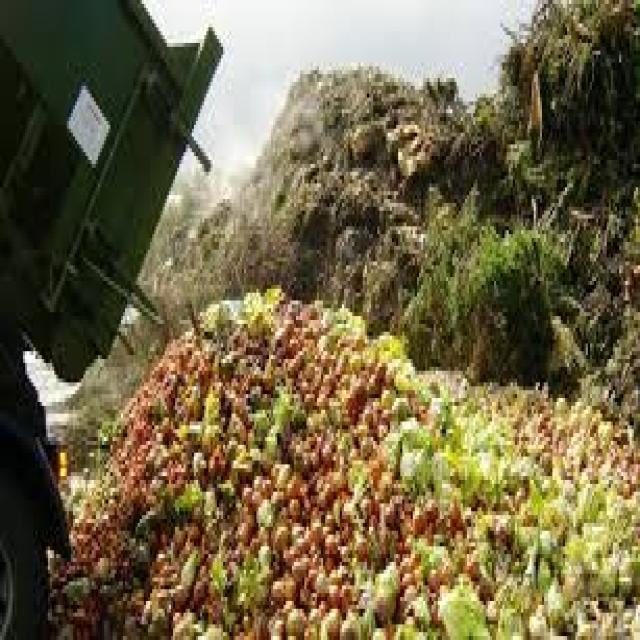Organik: (77, 278, 639, 640), (258, 42, 640, 347), (435, 0, 437, 27)
